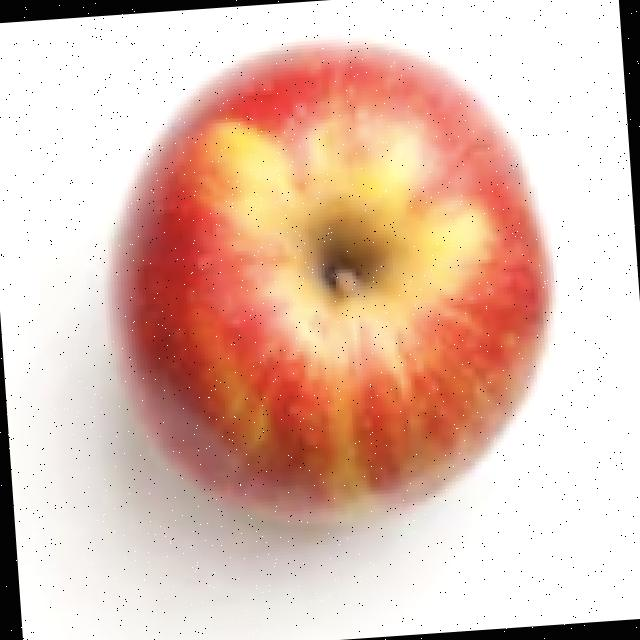Ripe: (77, 13, 578, 542)
